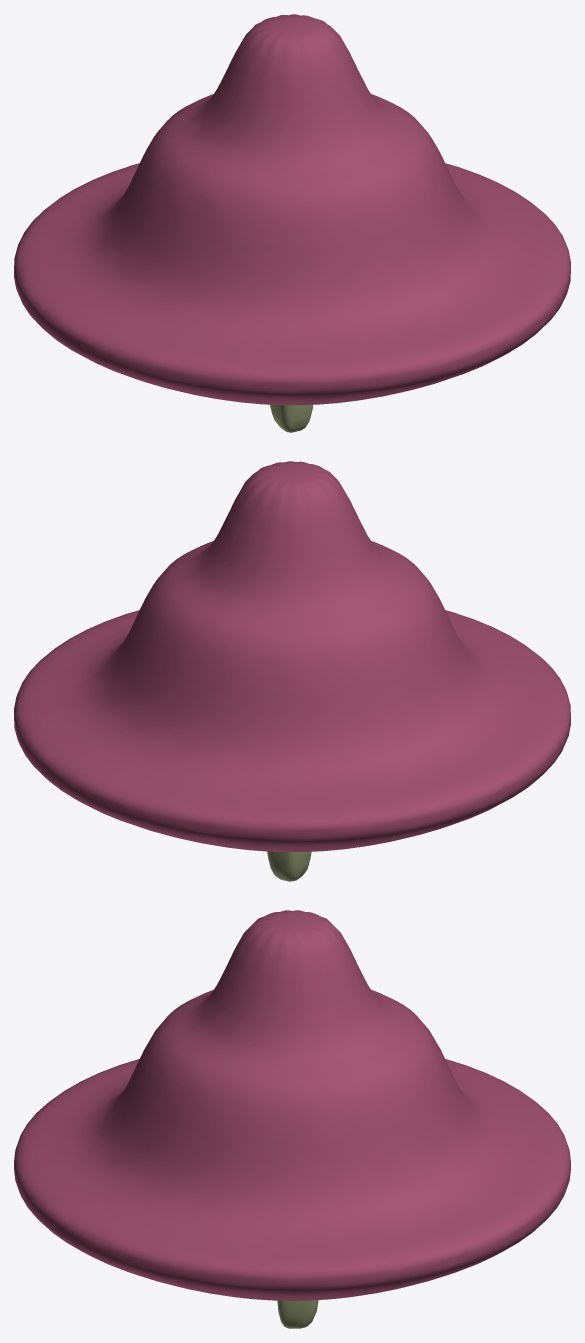
The model's file is Mushrom 8.fbx.
3 views of the same model, one above another, from view 1: azimuth 30°, elevation 25°; view 2: azimuth 150°, elevation 25°; view 3: azimuth 270°, elevation 25° (orthographic).
Visible parts, largest first — view 1: Cylinder, Cube; view 2: Cylinder, Cube; view 3: Cylinder, Cube.
Part boxes in pixels (<box>): Cylinder: <box>14,14,570,405</box>; Cube: <box>270,404,312,432</box>; Cylinder: <box>14,461,570,852</box>; Cube: <box>267,851,311,881</box>; Cylinder: <box>14,910,570,1300</box>; Cube: <box>277,1300,318,1328</box>.
Bounding box in the file's own units: 410 × 328 × 410.
